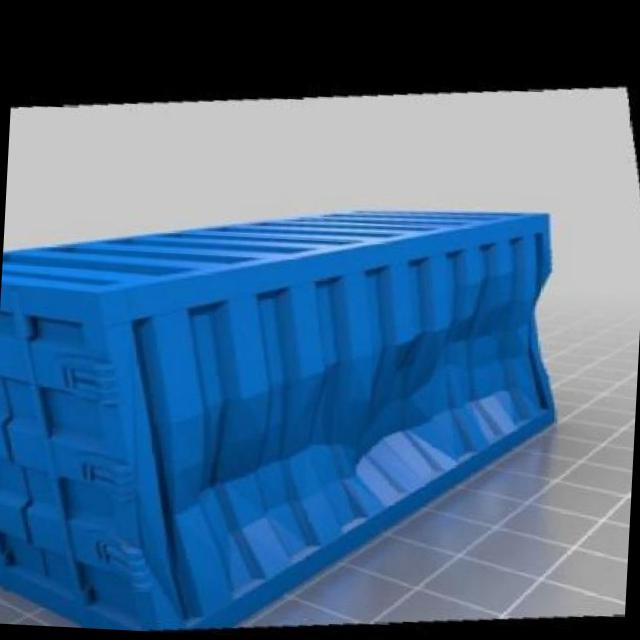Deframe_or_Dent: (107, 215, 567, 627)
